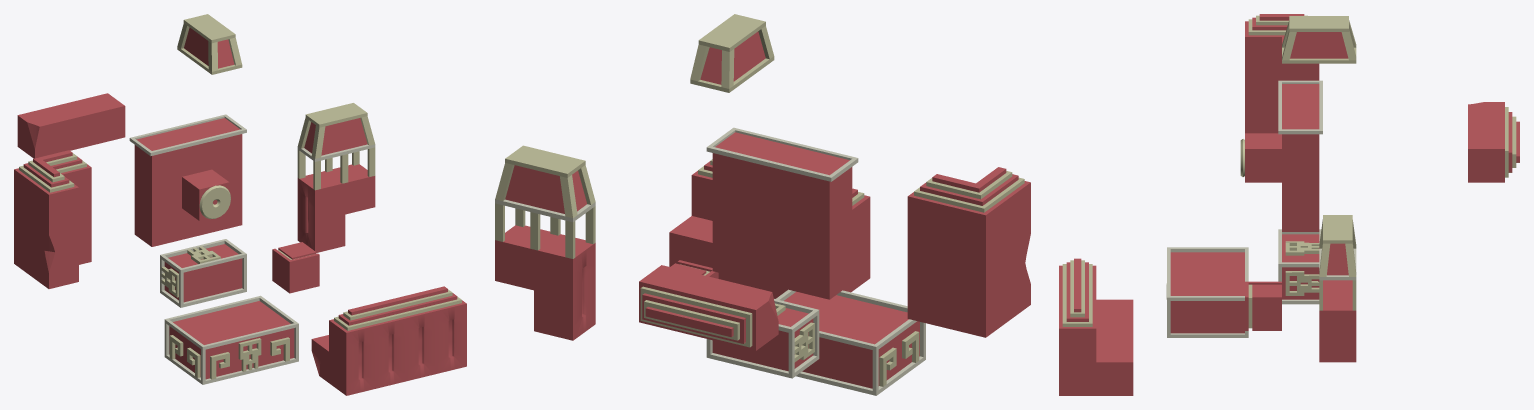
File: env_outlined_skulls.fbx
3 renders of one model, left to right at view 1: azimuth 30°, elevation 25°; view 2: azimuth 150°, elevation 25°; view 3: azimuth 270°, elevation 25°, orthographic. The views are drawn at different scales.
Visible parts, largest first — view 1: env_outlined_skulls; view 2: env_outlined_skulls; view 3: env_outlined_skulls.
Part boxes in pixels (bbox=[...]): env_outlined_skulls: bbox=[14, 14, 466, 395]; env_outlined_skulls: bbox=[495, 14, 1030, 395]; env_outlined_skulls: bbox=[1059, 14, 1519, 395].
Bounding box in the file's own units: 120 × 91 × 124.
2 materials, 1 textured.
